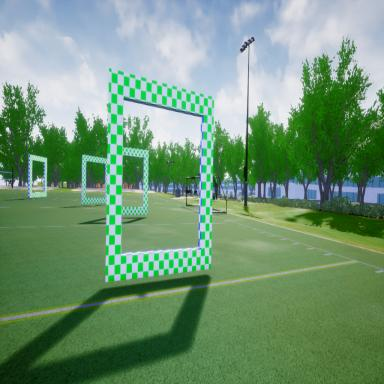gate: (103, 57, 216, 291), (28, 146, 48, 201)
